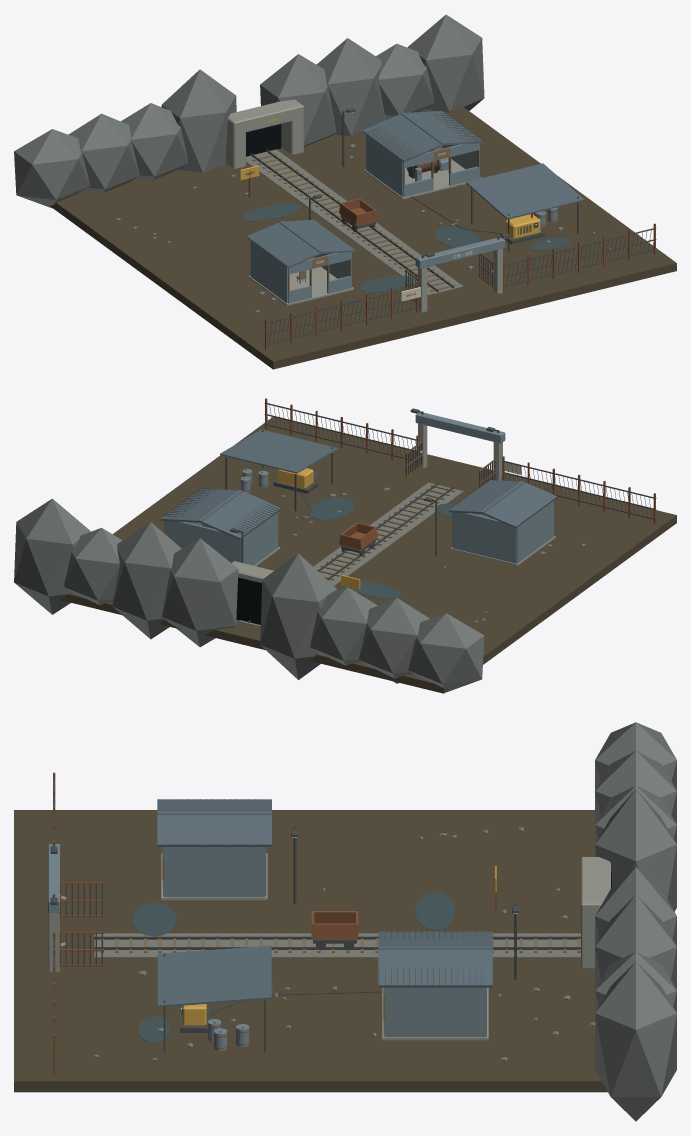
The model's file is mine_site.glb.
The picture shows the model from 3 angles, top to bottom: view 1: azimuth 30°, elevation 25°; view 2: azimuth 150°, elevation 25°; view 3: azimuth 270°, elevation 25°; orthographic projection. The views are drawn at different scales.
Visible parts, largest first — view 1: MN_Ground_Base, MN_RockFace_08, MN_RockFace_03, MN_RockFace_06, MN_RockFace_00, MN_Track_Ballast, MN_RainShelter_Roof, MN_RockFace_05, MN_RockFace_01, MN_RockFace_02, MN_RockFace_07, MN_WinchHouse_Roof (+17 smaller); view 2: MN_Ground_Base, MN_RockFace_03, MN_RockFace_05, MN_RockFace_08, MN_RockFace_06, MN_RockFace_00, MN_RockFace_01, MN_RockFace_02, MN_RockFace_07, MN_RainShelter_Roof, MN_Track_Ballast, MN_Dispatch_Rear (+13 smaller); view 3: MN_Ground_Base, MN_RockFace_08, MN_RainShelter_Roof, MN_RockFace_03, MN_Track_Ballast, MN_Dispatch_Side.001, MN_WinchHouse_Side.001, MN_WinchHouse_Roof.001, MN_Dispatch_Roof.001, MN_RockFace_06, MN_RockFace_01, MN_RockFace_00 (+17 smaller).
Boxes of the visible parts, bbox=[...] form: MN_Ground_Base: bbox=[50, 107, 676, 369]; MN_RockFace_08: bbox=[407, 14, 484, 112]; MN_RockFace_03: bbox=[161, 69, 236, 172]; MN_RockFace_06: bbox=[316, 38, 385, 136]; MN_RockFace_00: bbox=[14, 129, 89, 208]; MN_Track_Ballast: bbox=[246, 149, 463, 295]; MN_RainShelter_Roof: bbox=[466, 163, 584, 219]; MN_RockFace_05: bbox=[260, 54, 336, 146]; MN_RockFace_01: bbox=[68, 113, 139, 192]; MN_RockFace_02: bbox=[121, 103, 187, 179]; MN_RockFace_07: bbox=[376, 43, 433, 118]; MN_WinchHouse_Roof: bbox=[362, 112, 445, 162]; MN_Ground_Base: bbox=[60, 417, 676, 693]; MN_RockFace_03: bbox=[260, 553, 336, 679]; MN_RockFace_05: bbox=[162, 538, 238, 647]; MN_RockFace_08: bbox=[14, 498, 90, 614]; MN_RockFace_06: bbox=[112, 522, 181, 639]; MN_RockFace_00: bbox=[408, 613, 484, 692]; MN_RockFace_01: bbox=[358, 598, 429, 683]; MN_RockFace_02: bbox=[310, 587, 377, 665]; MN_RockFace_07: bbox=[64, 527, 122, 605]; MN_RainShelter_Roof: bbox=[220, 429, 338, 473]; MN_Track_Ballast: bbox=[239, 482, 463, 626]; MN_Dispatch_Rear: bbox=[453, 512, 516, 563]; MN_Ground_Base: bbox=[14, 810, 607, 1092]; MN_RockFace_08: bbox=[595, 961, 676, 1121]; MN_RainShelter_Roof: bbox=[157, 945, 271, 1007]; MN_RockFace_03: bbox=[595, 789, 676, 911]; MN_Track_Ballast: bbox=[94, 933, 580, 957]; MN_Dispatch_Side.001: bbox=[164, 847, 264, 897]; MN_WinchHouse_Side.001: bbox=[385, 987, 485, 1037]; MN_WinchHouse_Roof.001: bbox=[378, 946, 492, 987]; MN_Dispatch_Roof.001: bbox=[157, 811, 271, 846]; MN_RockFace_06: bbox=[595, 895, 676, 990]; MN_RockFace_01: bbox=[595, 751, 676, 824]; MN_RockFace_00: bbox=[595, 722, 676, 790].
Size of the model in its own units: 36.92 by 9.61 by 33.04.
